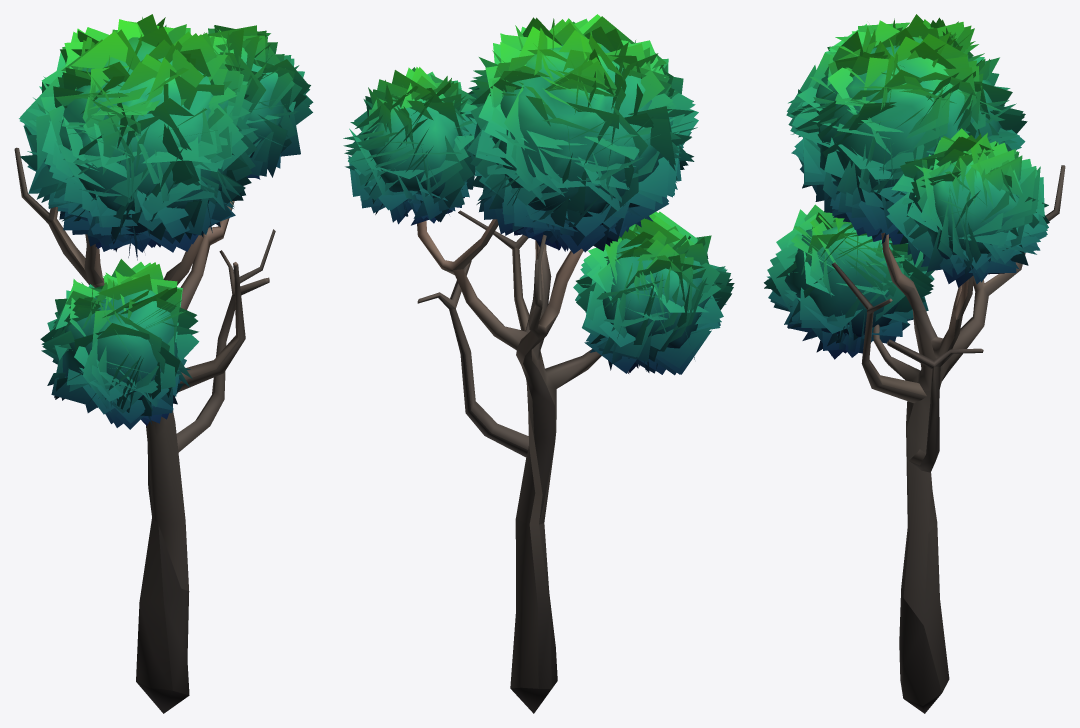
Rendered from Forest_Tree_4B.fbx.
The picture shows the model from 3 angles, left to right: view 1: azimuth 30°, elevation 25°; view 2: azimuth 150°, elevation 25°; view 3: azimuth 270°, elevation 25°; orthographic projection. The views are drawn at different scales.
Parts seen in each view (by area): view 1: Forest_Tree_4B; view 2: Forest_Tree_4B; view 3: Forest_Tree_4B.
Part boxes in pixels (<box>): Forest_Tree_4B: <box>14,14,313,713</box>; Forest_Tree_4B: <box>343,14,734,713</box>; Forest_Tree_4B: <box>764,14,1065,713</box>.
Bounding box in the file's own units: 327 × 712 × 288.
